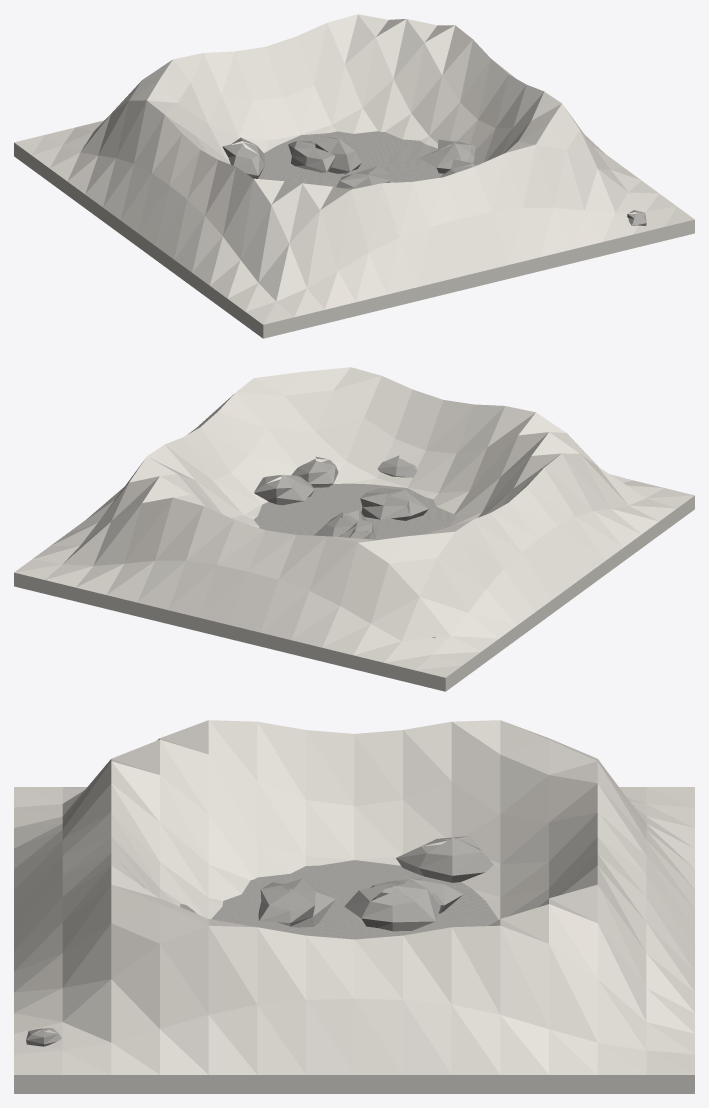
Rendered from volcano-and-lava-fields-volcano-and-lava-fields-mud-po-09fcd673__37463.glb.
The picture shows the model from 3 angles, top to bottom: view 1: azimuth 30°, elevation 25°; view 2: azimuth 150°, elevation 25°; view 3: azimuth 270°, elevation 25°; orthographic projection. The views are drawn at different scales.
Visible parts, largest first — view 1: volcano-and-lava-fields-mud-pot; view 2: volcano-and-lava-fields-mud-pot; view 3: volcano-and-lava-fields-mud-pot.
Part boxes in pixels (box(x1,y1,x2,y2)): volcano-and-lava-fields-mud-pot: box(14, 14, 694, 338); volcano-and-lava-fields-mud-pot: box(14, 367, 694, 691); volcano-and-lava-fields-mud-pot: box(14, 720, 694, 1093).
Bounding box in the file's own units: 2.6 × 0.5399 × 2.6.
2 materials, 1 textured.
